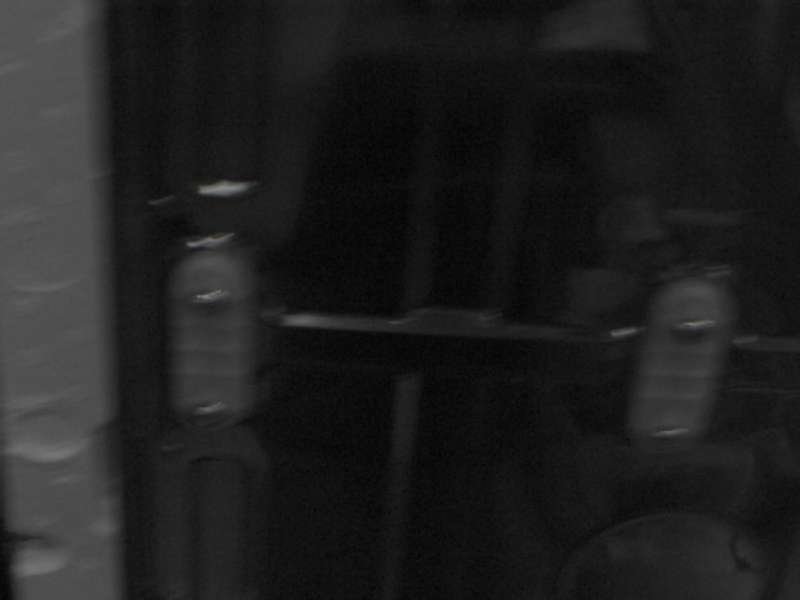screw: (191, 401, 231, 427), (671, 319, 717, 341), (191, 288, 232, 307), (651, 427, 690, 440)
